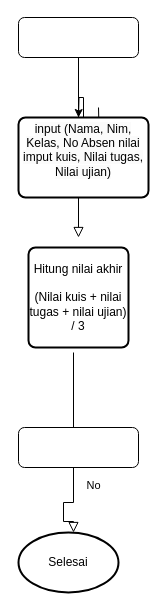
Image size: 166x611. Some labels were removed from this diagram. Each missing label, with the centre of its shape:
"Output nilai akhir cetak nilai" goes at point (78, 447).
"Start" goes at point (78, 37).
